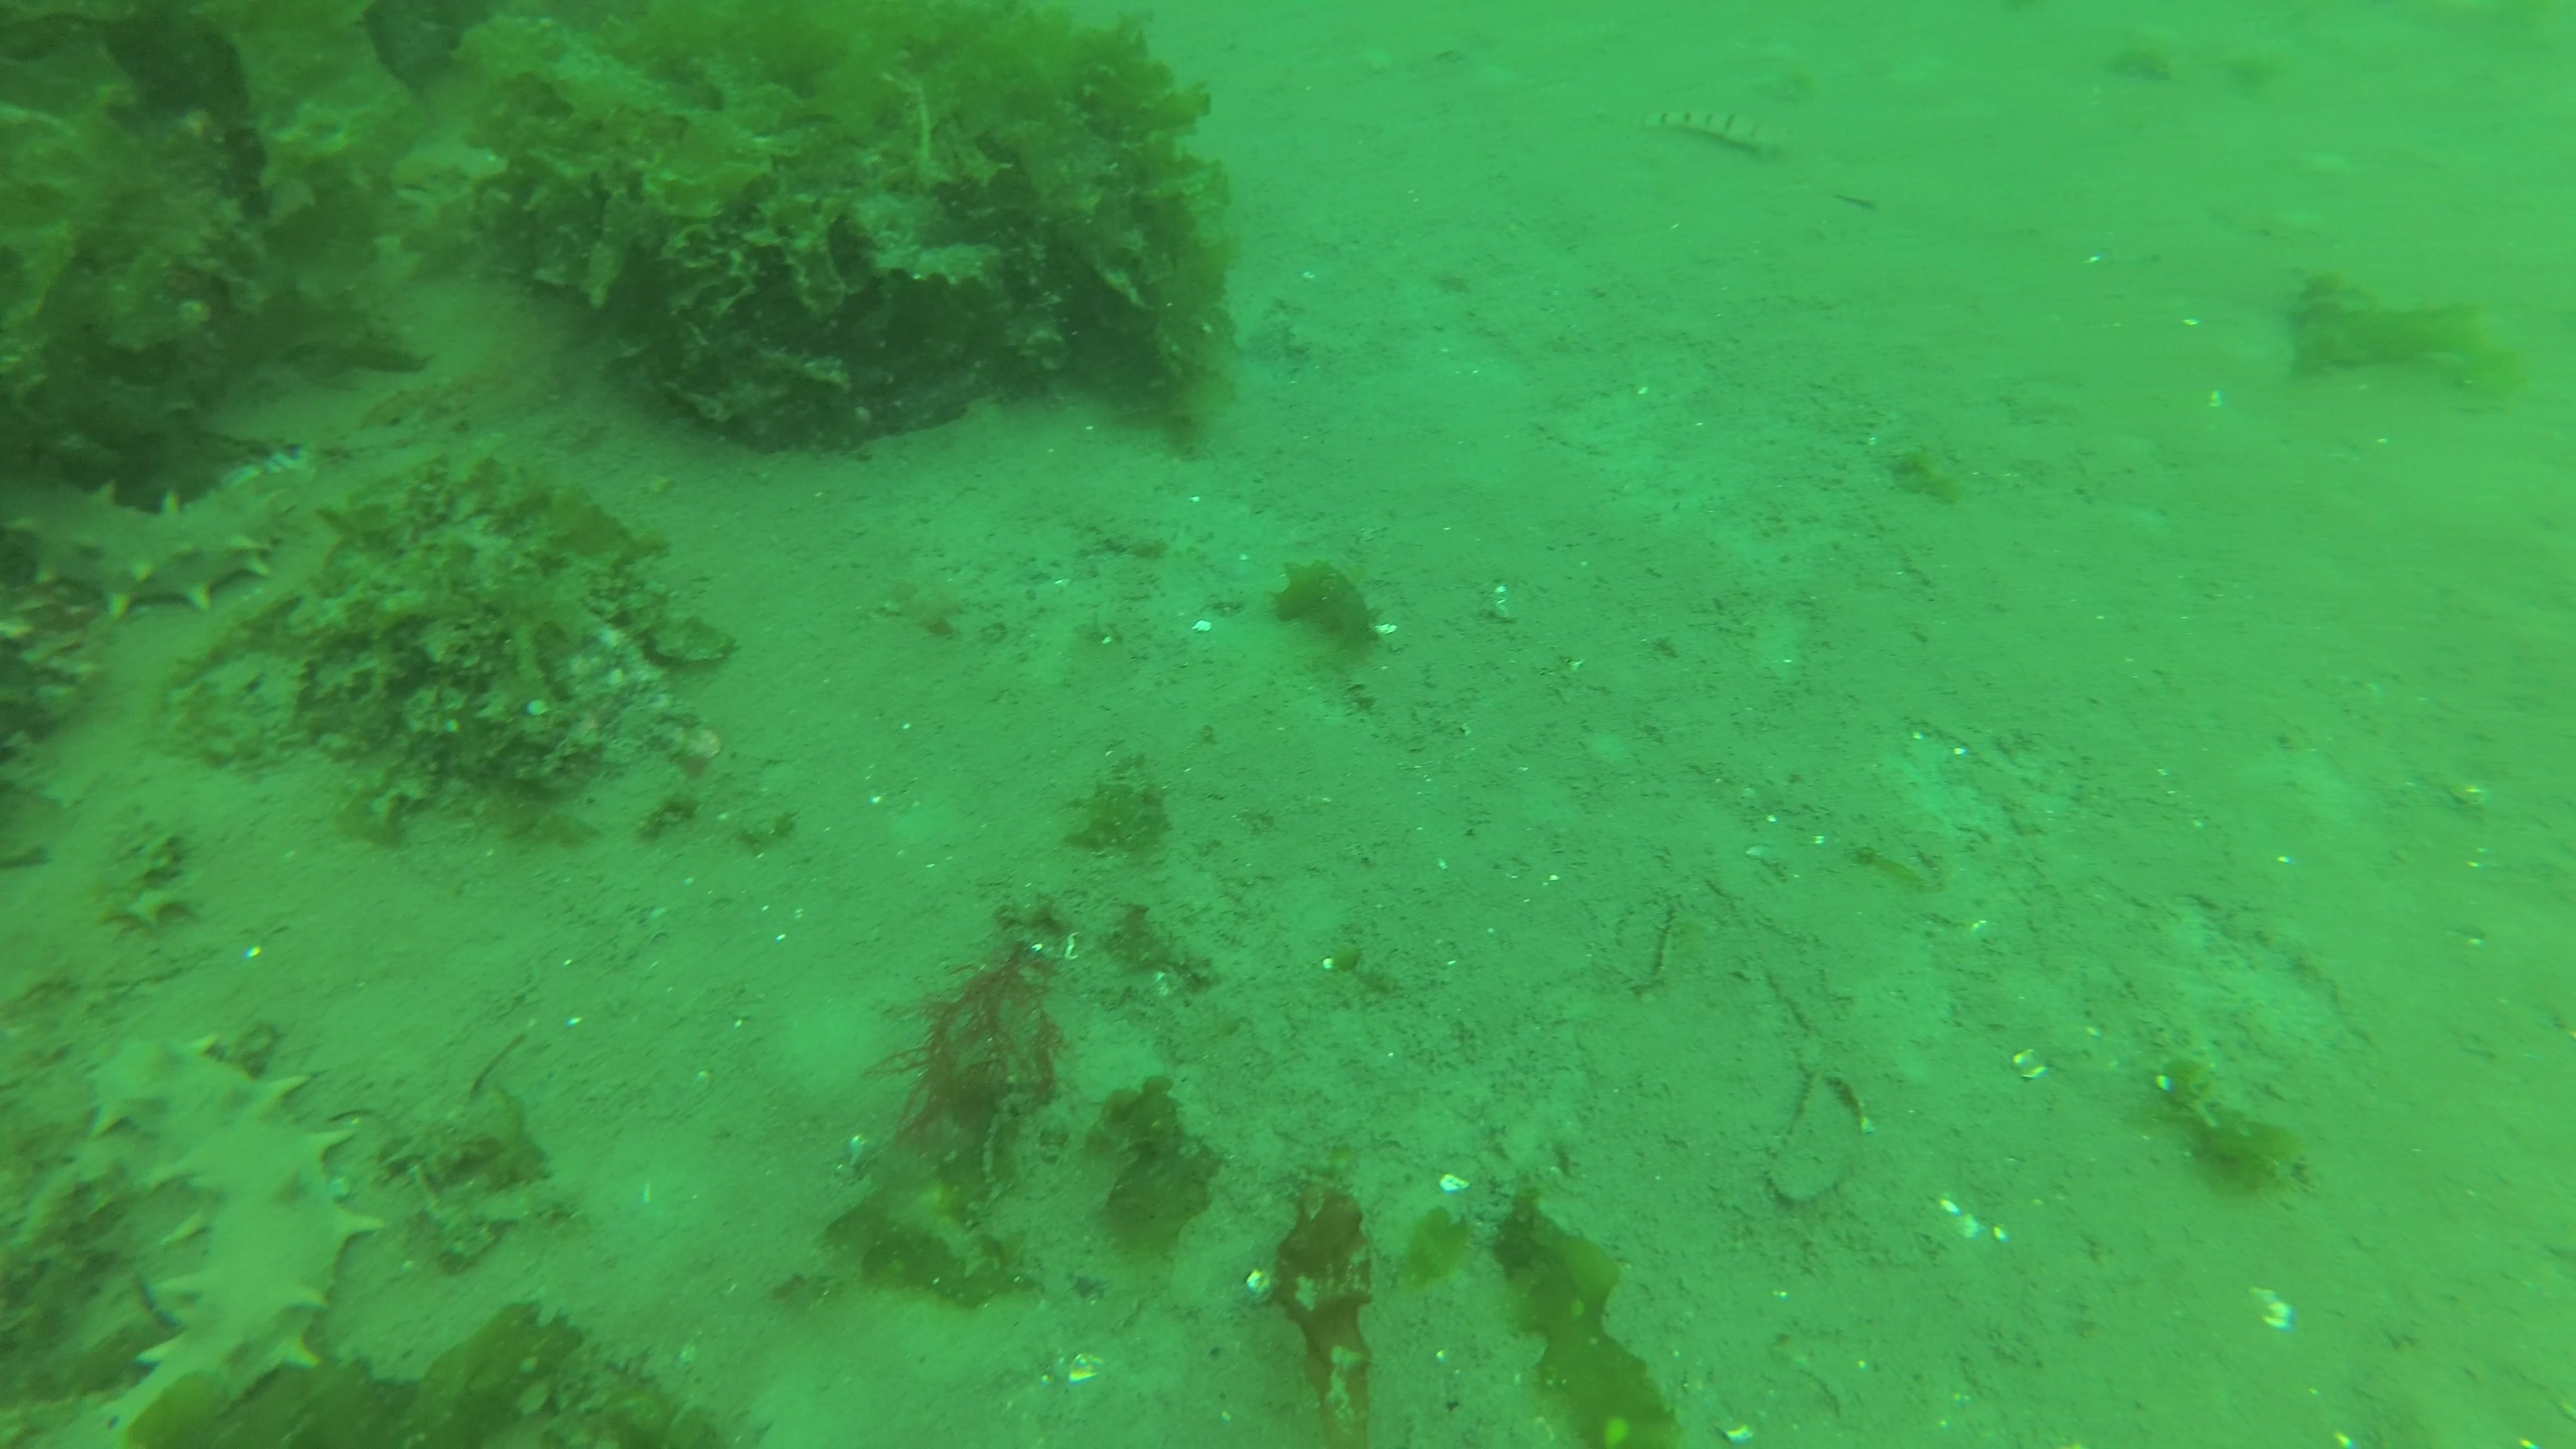holothurian: (88, 1033, 391, 1449), (0, 448, 322, 621)
